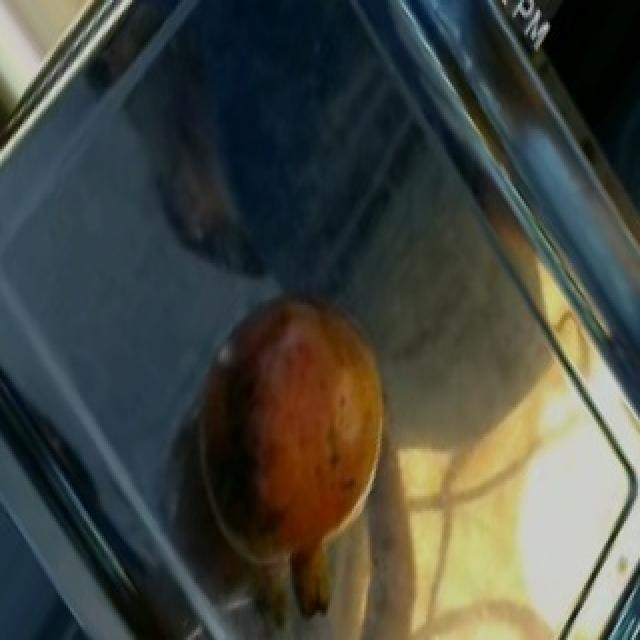fruit: (184, 302, 412, 598)
